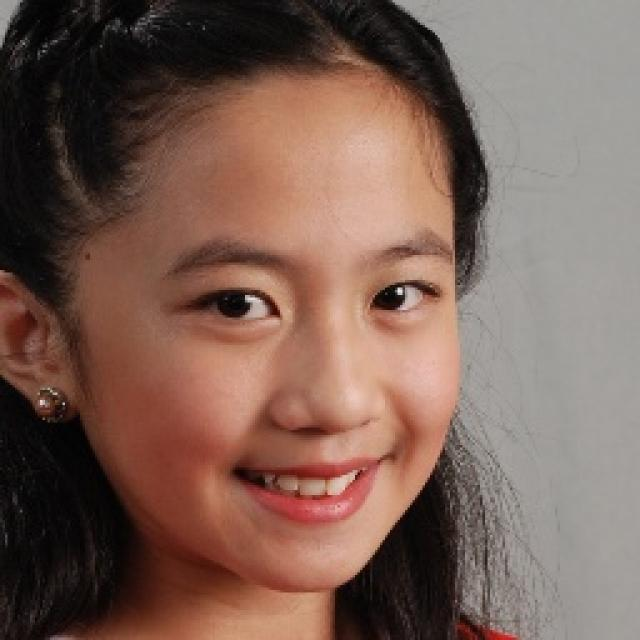earlobe: (0, 268, 75, 417)
